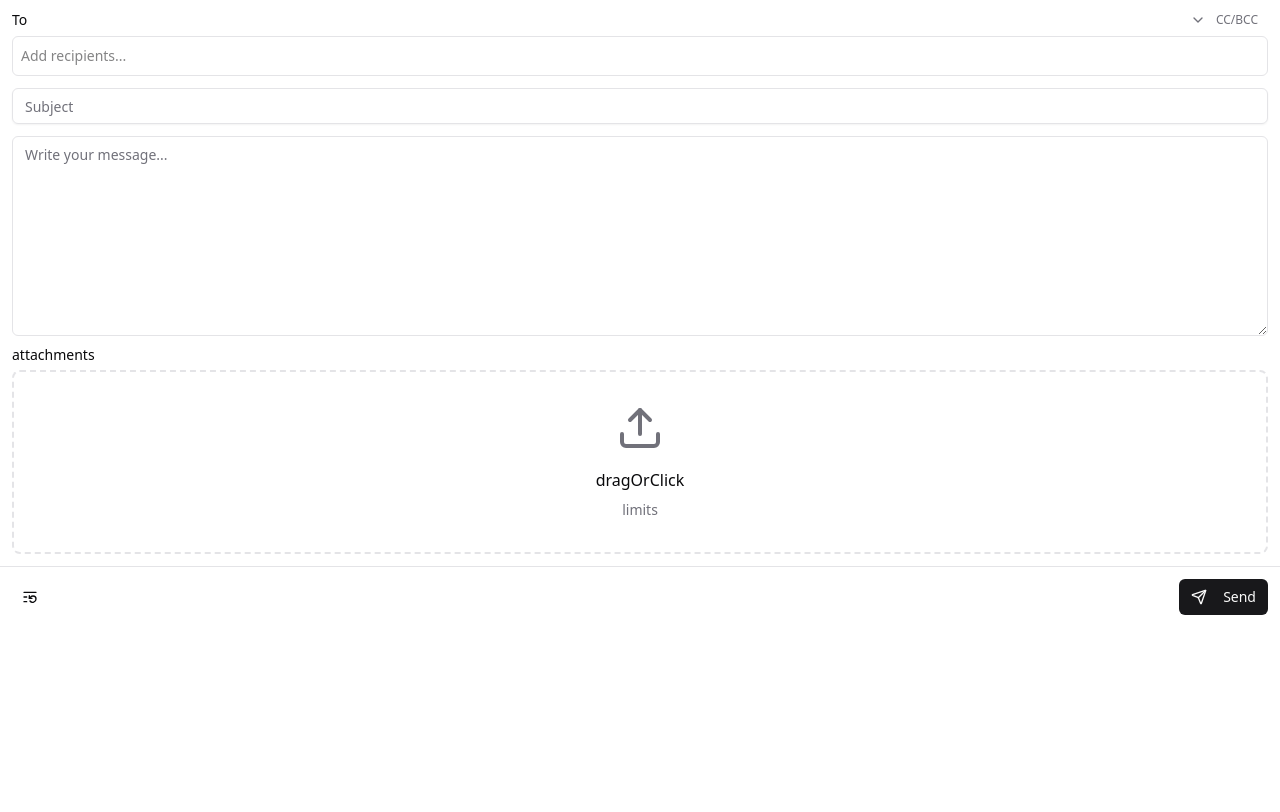
EmailComposerForm › reset button › clears form when reset button is clicked
# Add a recipient
Type "alice@example.com" into the field with placeholder "Add recipients..." at (640, 56), box [21,45,1259,67]
Then press Enter
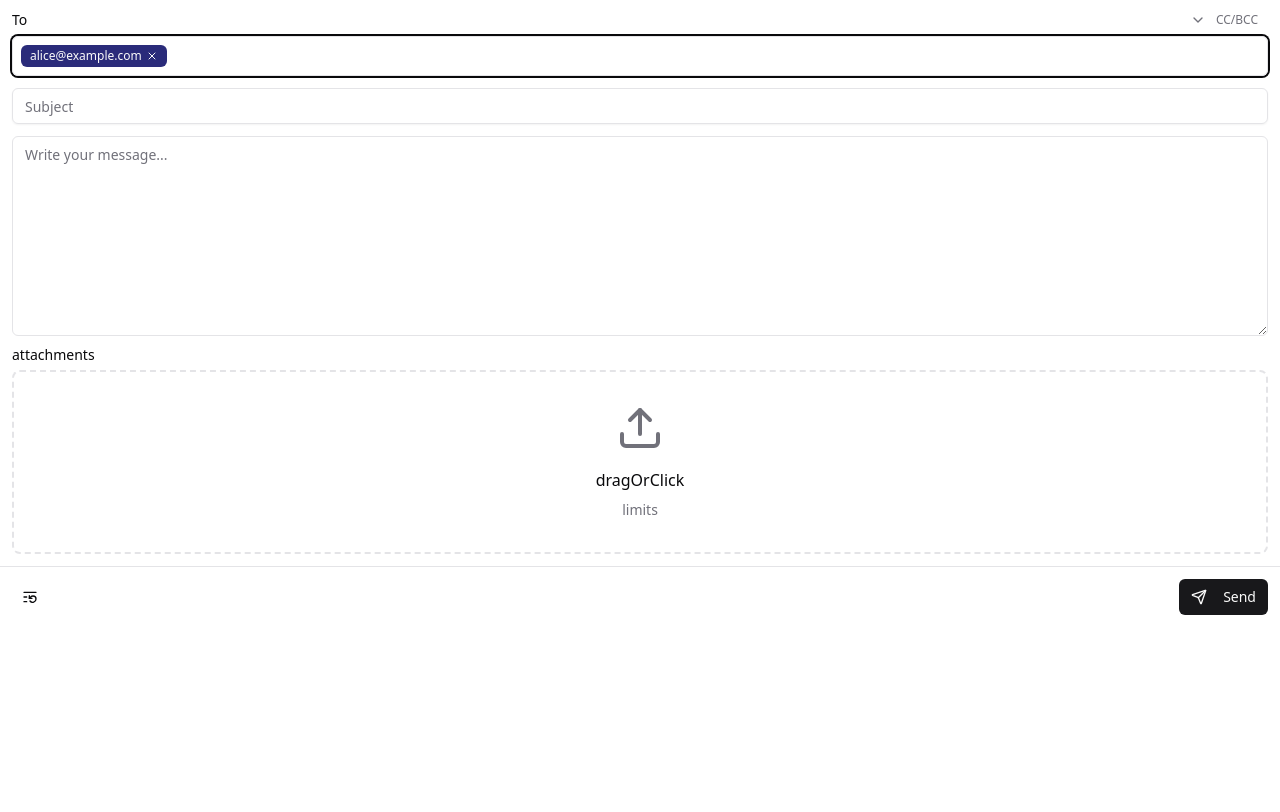
Expected: the text "alice@example.com" is shown, [21,45,167,67]
# Type in subject
Type "Test subject" into the field with placeholder "Subject" at (640, 106), box [12,88,1268,124]
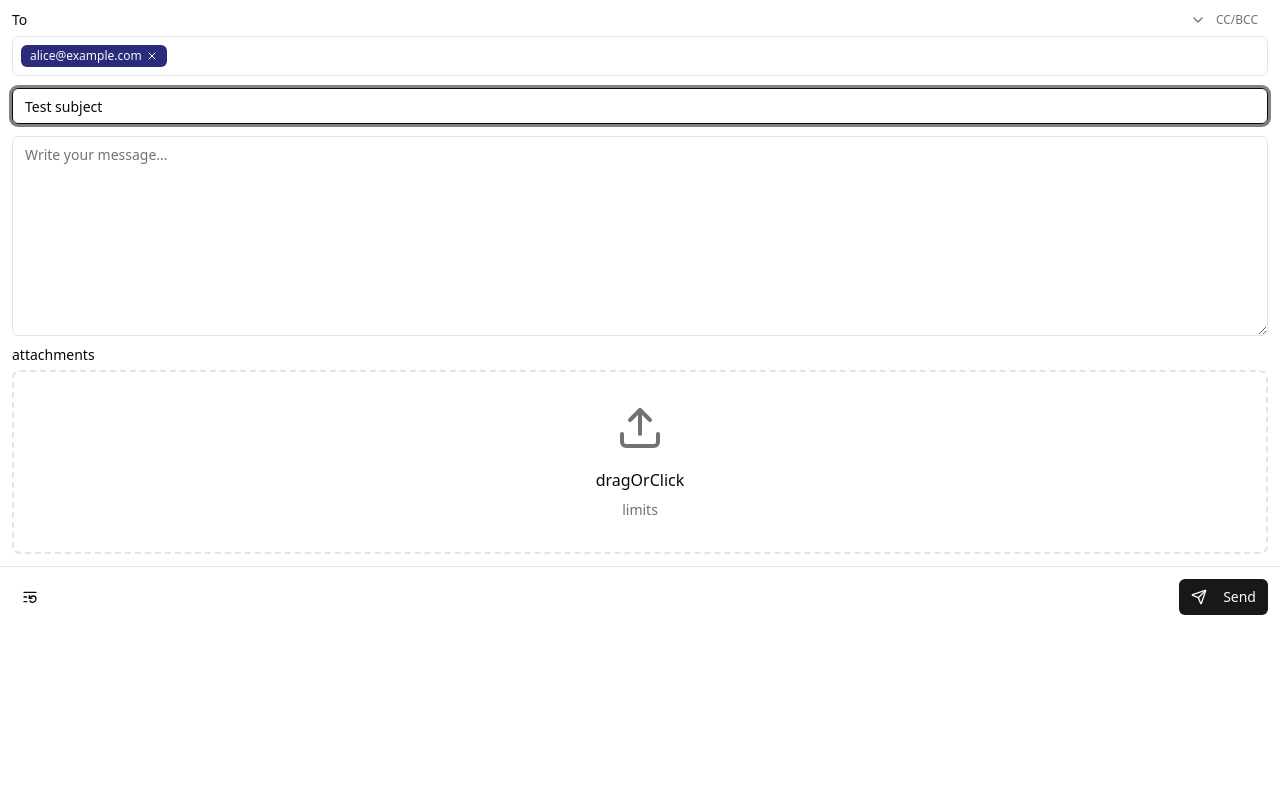
Click the 2nd button at (30, 597), box [12,579,48,615]
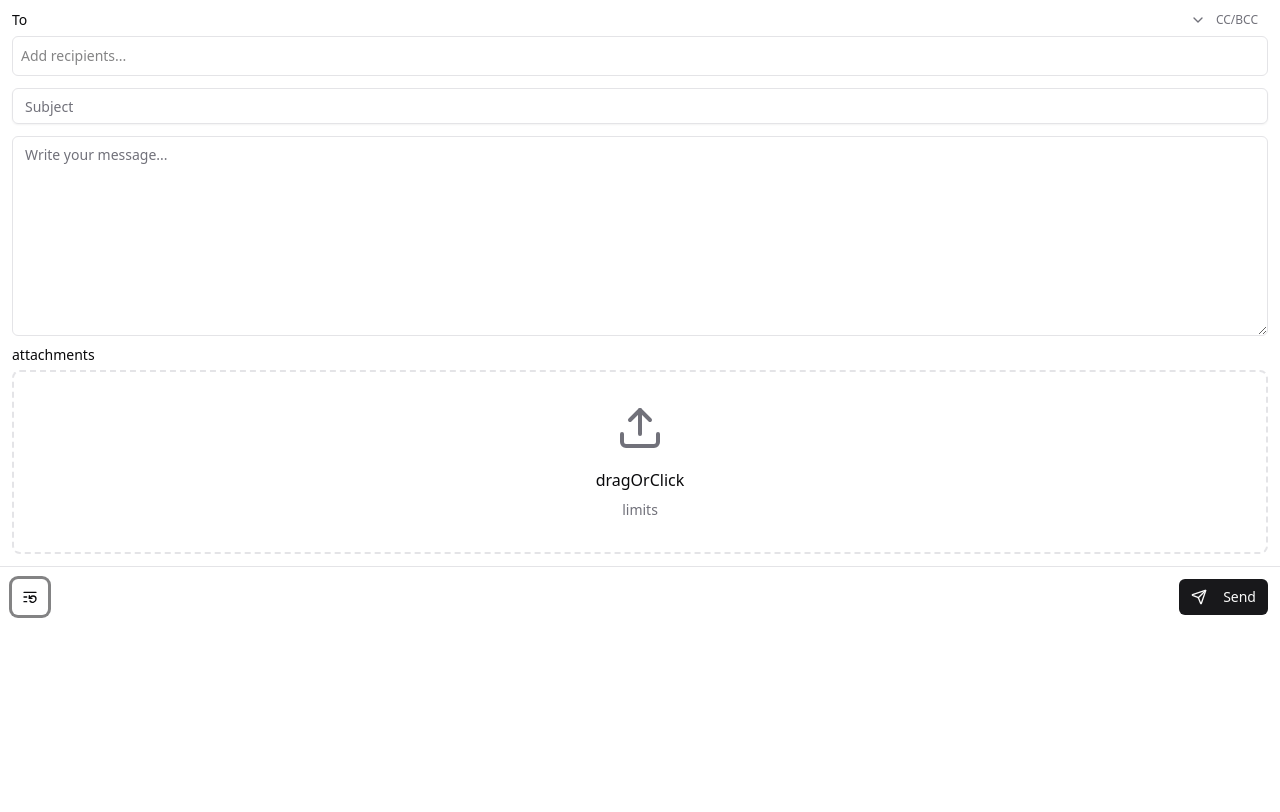
Expected: the text "alice@example.com" is gone
